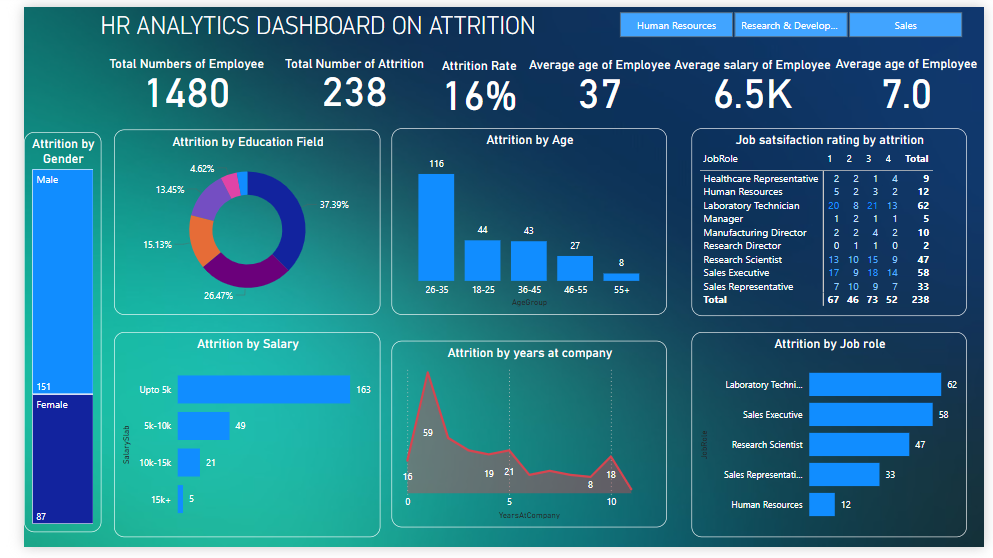

The page's visual inventory and layout, read from the dashboard file:
{"tool":"powerbi","page":{"name":"Page 1","canvas":[1280,720],"ordinal":0},"visuals":[{"type":"card","title":"Total Number of Attrition","fields":{"Values":["Sum(HR_Analytics.Custom)"]},"box":[311.3,65.3,258.2,83.5],"z":0},{"type":"card","title":"Total Numbers of Employee","fields":{"Values":["CountNonNull(HR_Analytics.EmpID)"]},"box":[89.6,65.3,253.6,86.6],"z":1000},{"type":"card","title":"Average age of Employee","fields":{"Values":["Avg(HR_Analytics.Age)"]},"box":[662.2,66.8,212.6,88.1],"z":2000},{"type":"card","title":"Attrition Rate","fields":{"Values":["HR_Analytics.Attritionrate"]},"box":[525.5,68.3,164,88.1],"z":3000},{"type":"card","title":"Average age of Employee","fields":{"Values":["Avg(HR_Analytics.YearsAtCompany)"]},"box":[1073.8,65.3,206.6,91.1],"z":4000},{"type":"card","title":"Average salary of Employee","fields":{"Values":["Avg(HR_Analytics.MonthlyIncome)"]},"box":[858.1,66.8,226.3,88.1],"z":5000},{"type":"donutChart","title":"Attrition by Education Field","fields":{"Category":["HR_Analytics.EducationField"],"Y":["Sum(HR_Analytics.sum of attrition)"]},"box":[120,162.5,355.4,247.6],"z":6000},{"type":"columnChart","title":"Attrition by Age","fields":{"Y":["Sum(HR_Analytics.sum of attrition)"],"Category":["HR_Analytics.AgeGroup"]},"box":[490.6,161,367.5,249.1],"z":7000},{"type":"pivotTable","title":"Job satsifaction  rating by attrition","fields":{"Rows":["HR_Analytics.JobRole"],"Columns":["HR_Analytics.JobSatisfaction"],"Values":["Sum(HR_Analytics.sum of attrition)"]},"box":[890,161,367.5,250.6],"z":8000},{"type":"clusteredBarChart","title":"Attrition by Salary","fields":{"Category":["HR_Analytics.SalarySlab"],"Y":["Sum(HR_Analytics.sum of attrition)"]},"box":[120,432.8,355.4,273.4],"z":9000},{"type":"clusteredBarChart","title":"Attrition by Job role","fields":{"Y":["Sum(HR_Analytics.sum of attrition)"],"Category":["HR_Analytics.JobRole"]},"box":[890,432.8,367.5,273.4],"z":10000},{"type":"stackedAreaChart","title":"Attrition by years at company","fields":{"Category":["HR_Analytics.YearsAtCompany"],"Y":["Sum(HR_Analytics.sum of attrition)"]},"box":[490.6,445,367.5,249.1],"z":11000},{"type":"slicer","fields":{"Values":["HR_Analytics.Department"]},"box":[768.3,0,506.7,46.7],"z":12000},{"type":"treemap","title":"Attrition by Gender","fields":{"Values":["Sum(HR_Analytics.sum of attrition)"],"Details":["HR_Analytics.Gender"]},"box":[0,166.7,103.3,533.3],"z":13000},{"type":"textbox","box":[0,0,784.3,68.6],"z":14000}]}

Visuals, with their boxes in screenshot pixels (x1, y1, x2, y2), scaled from the page's 1280x720 canvas onto the 993x558 screenshot:
"Total Number of Attrition" card: <region>242, 51, 442, 115</region>
"Total Numbers of Employee" card: <region>70, 51, 266, 118</region>
"Average age of Employee" card: <region>514, 52, 679, 120</region>
"Attrition Rate" card: <region>408, 53, 535, 121</region>
"Average age of Employee" card: <region>833, 51, 992, 121</region>
"Average salary of Employee" card: <region>666, 52, 841, 120</region>
"Attrition by Education Field" donutChart: <region>93, 126, 369, 318</region>
"Attrition by Age" columnChart: <region>381, 125, 666, 318</region>
"Job satsifaction  rating by attrition" pivotTable: <region>690, 125, 976, 319</region>
"Attrition by Salary" clusteredBarChart: <region>93, 335, 369, 547</region>
"Attrition by Job role" clusteredBarChart: <region>690, 335, 976, 547</region>
"Attrition by years at company" stackedAreaChart: <region>381, 345, 666, 538</region>
slicer - HR_Analytics.Department: <region>596, 0, 989, 36</region>
"Attrition by Gender" treemap: <region>0, 129, 80, 542</region>
textbox: <region>0, 0, 608, 53</region>
